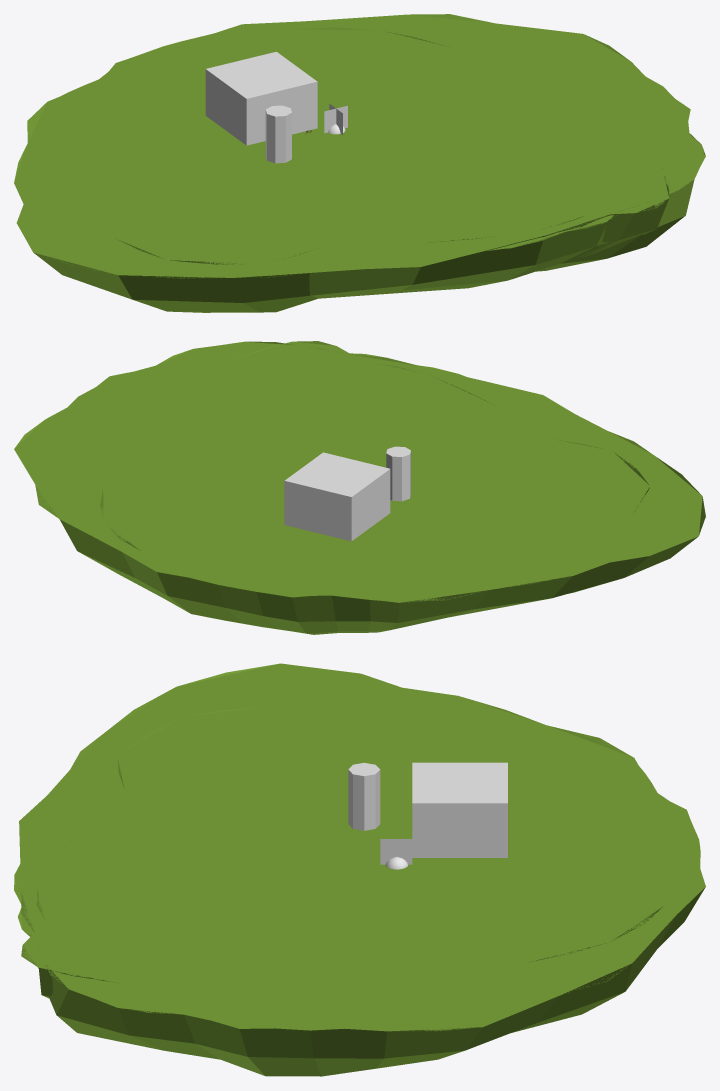
File: mod_arrowUI.fbx
3 views of the same model, one above another, from view 1: azimuth 30°, elevation 25°; view 2: azimuth 150°, elevation 25°; view 3: azimuth 270°, elevation 25° (orthographic). The views are drawn at different scales.
Parts seen in each view (by area): view 1: mod_terrain03_p1, mod_terrain01_p1, mod_terrain03_p3, mod_terrain03_p2, mod_terrain01_p2, Cube.001, mod_terrain01_p3, Cylinder.001, mod_grass; view 2: mod_terrain03_p1, mod_terrain01_p1, mod_terrain03_p3, mod_terrain03_p2, mod_terrain01_p2, Cube.001, Cylinder.001, mod_terrain01_p3; view 3: mod_terrain03_p1, mod_terrain01_p1, mod_terrain03_p3, mod_terrain03_p2, mod_terrain01_p2, Cube.001, Cylinder.001, mod_terrain01_p3, mod_grass.
Boxes of the visible parts, x1,y1,x2,y2 form: mod_terrain03_p1: (27,20,688,272); mod_terrain01_p1: (110,31,657,258); mod_terrain03_p3: (14,14,705,312); mod_terrain03_p2: (14,14,705,278); mod_terrain01_p2: (96,27,669,264); Cube.001: (205,51,317,145); mod_terrain01_p3: (117,27,669,264); Cylinder.001: (265,105,291,163); mod_grass: (324,104,347,134); mod_terrain03_p1: (31,347,689,598); mod_terrain01_p1: (104,346,633,580); mod_terrain03_p3: (15,341,705,634); mod_terrain03_p2: (14,341,705,602); mod_terrain01_p2: (89,341,649,587); Cube.001: (284,452,390,541); Cylinder.001: (386,446,410,501); mod_terrain01_p3: (100,341,649,550); mod_terrain03_p1: (36,671,687,1023); mod_terrain01_p1: (40,713,674,1001); mod_terrain03_p3: (19,664,705,1076); mod_terrain03_p2: (19,663,705,1031); mod_terrain01_p2: (21,707,691,1010); Cube.001: (412,762,507,857); Cylinder.001: (348,762,380,830); mod_terrain01_p3: (21,707,662,998); mod_grass: (380,839,412,864).
Bounding box in the file's own units: 2723 × 540 × 2165.
